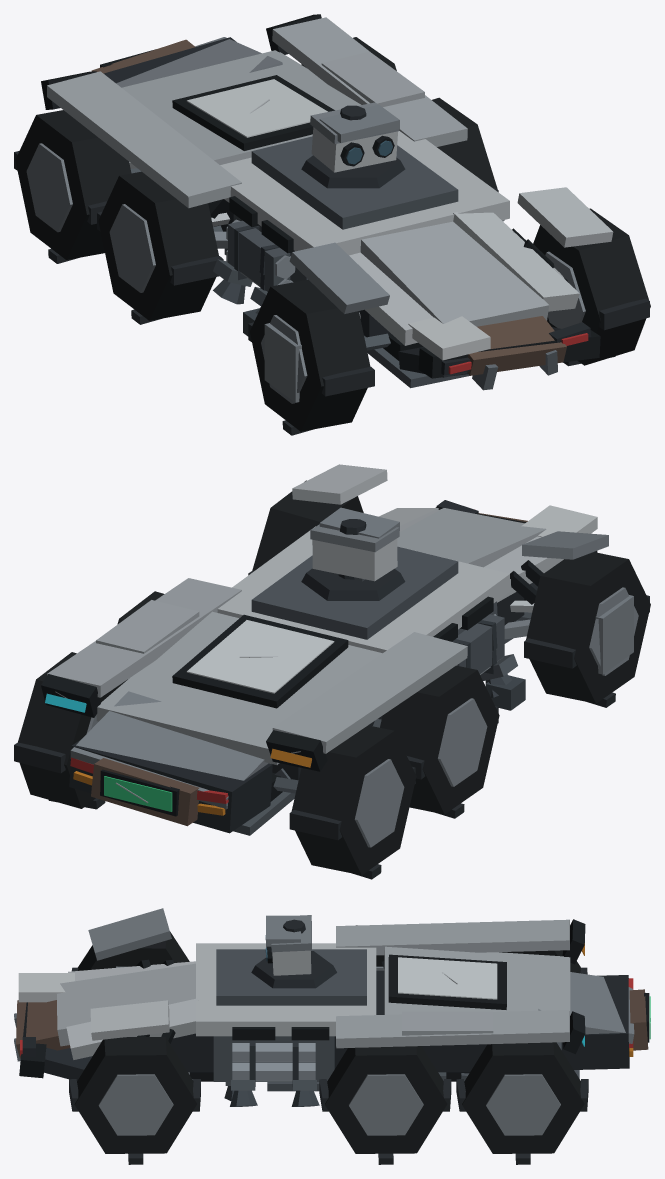
The model's file is r47x_recon_rover_d1_lod2.glb.
3 views of the same model, one above another, from view 1: azimuth 30°, elevation 25°; view 2: azimuth 150°, elevation 25°; view 3: azimuth 270°, elevation 25° (orthographic). The views are drawn at different scales.
Parts seen in each view (by area): view 1: ROVER_STATIC_BODY; view 2: ROVER_STATIC_BODY; view 3: ROVER_STATIC_BODY.
Boxes of the visible parts, left/top/right/bottom form: ROVER_STATIC_BODY: left=14, top=14, right=650, bottom=435; ROVER_STATIC_BODY: left=14, top=464, right=650, bottom=879; ROVER_STATIC_BODY: left=14, top=908, right=650, bottom=1164.
Bounding box in the file's own units: 2.39 × 1.44 × 4.74.
